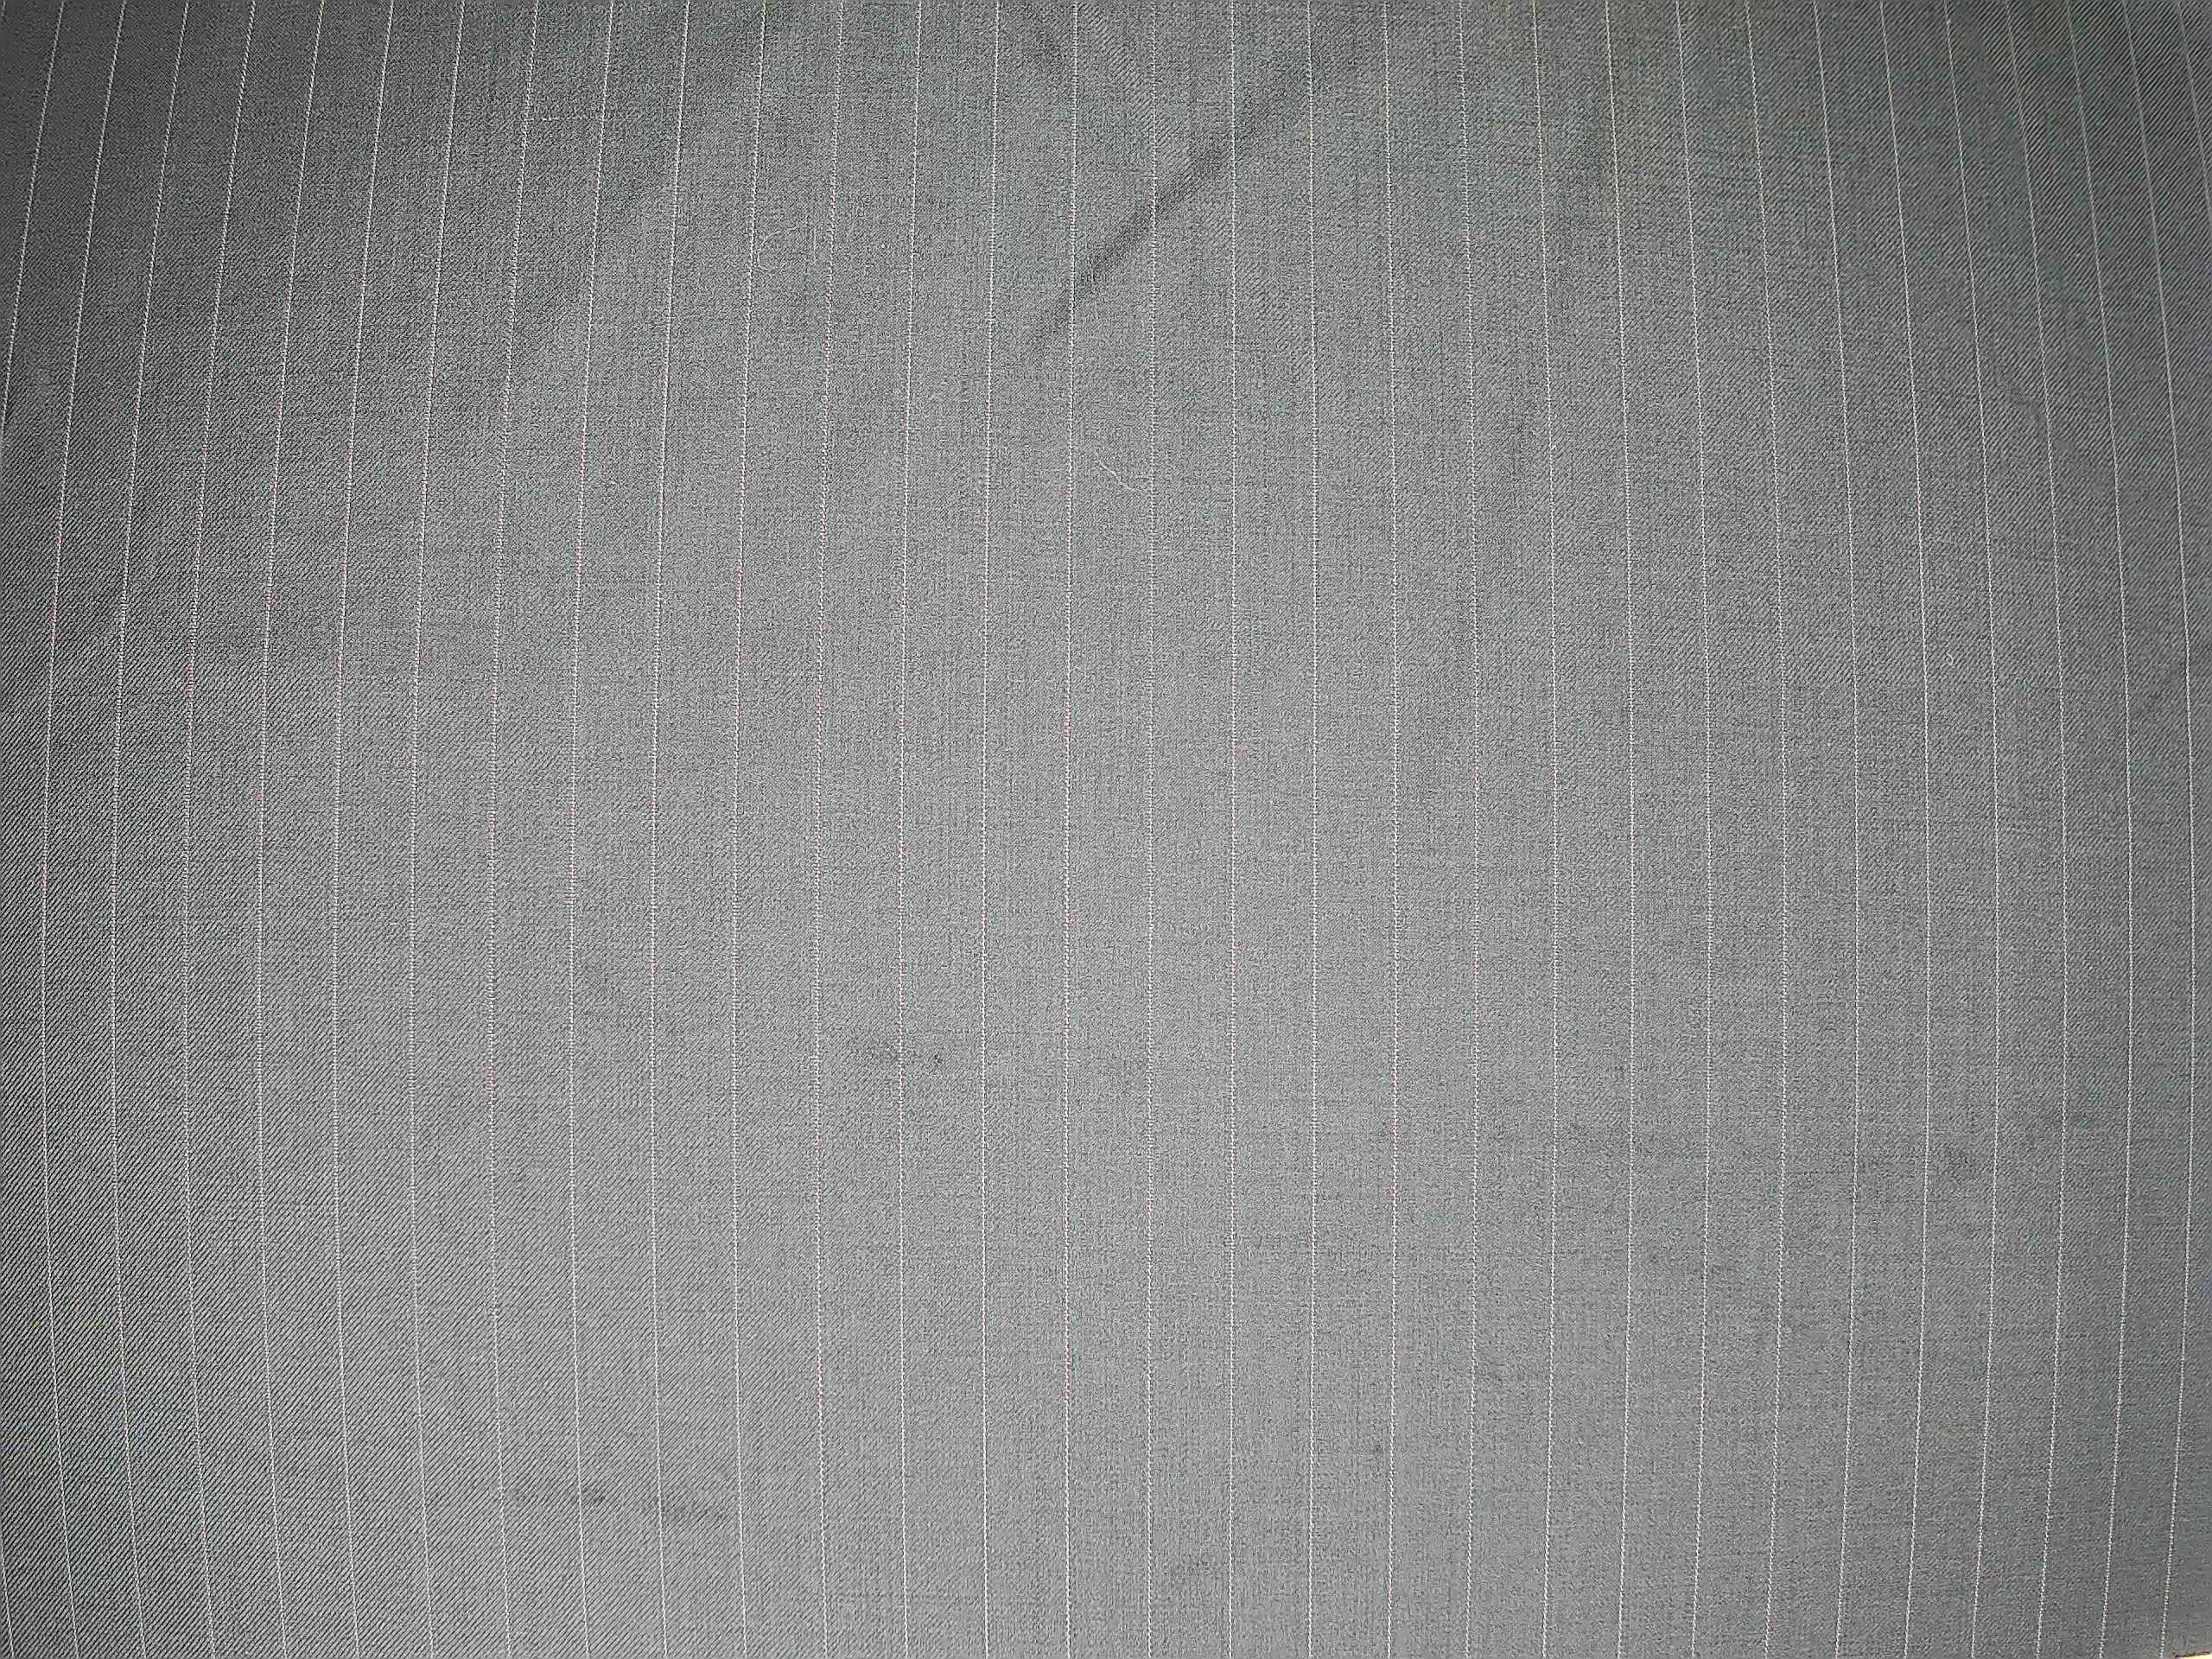others: (1451, 1087, 2114, 1392), (455, 1452, 747, 1553), (799, 999, 1012, 1103)
